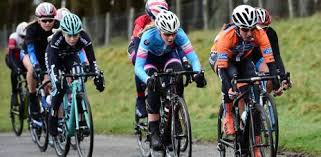helmet: (232, 4, 258, 28), (155, 10, 179, 32), (60, 13, 82, 33)
